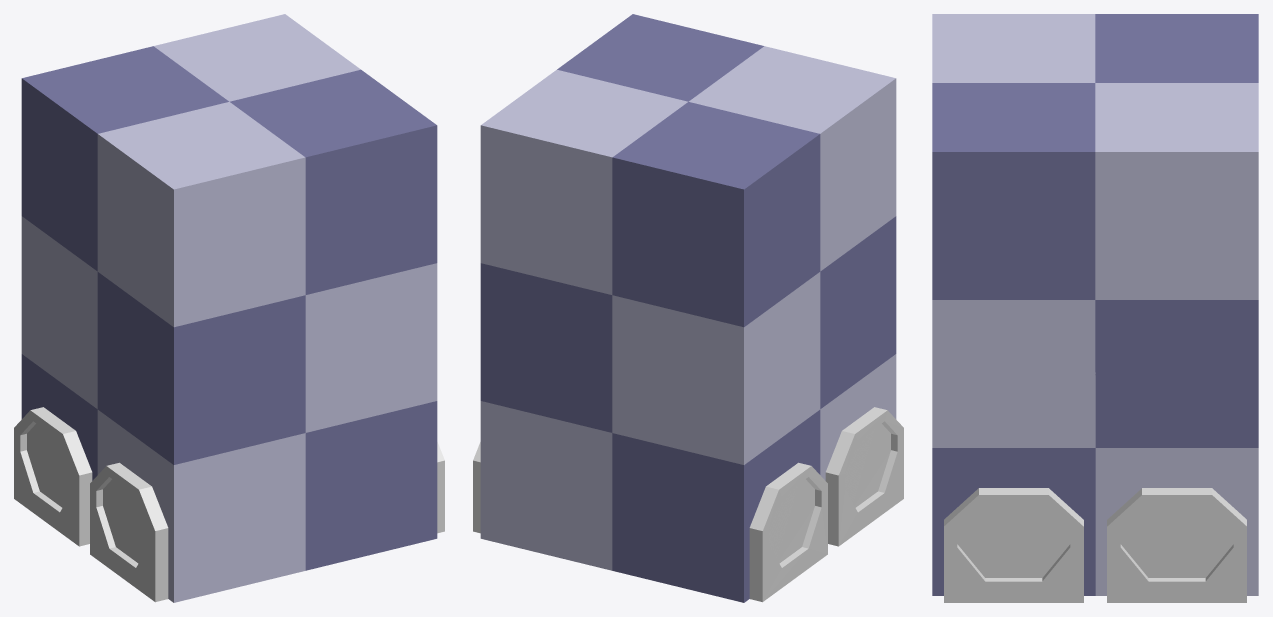
Rendered from loosemini.fbx.
3 views of the same model, side by side, from view 1: azimuth 30°, elevation 25°; view 2: azimuth 150°, elevation 25°; view 3: azimuth 270°, elevation 25° (orthographic). The views are drawn at different scales.
Visible parts, largest first — view 1: SmallStorage_StorageLooseMini; view 2: SmallStorage_StorageLooseMini; view 3: SmallStorage_StorageLooseMini.
Part boxes in pixels (left/top/right/bottom): SmallStorage_StorageLooseMini: left=14, top=14, right=444, bottom=602; SmallStorage_StorageLooseMini: left=473, top=14, right=903, bottom=602; SmallStorage_StorageLooseMini: left=932, top=14, right=1258, bottom=602.
Bounding box in the file's own units: 440 × 600 × 400.
